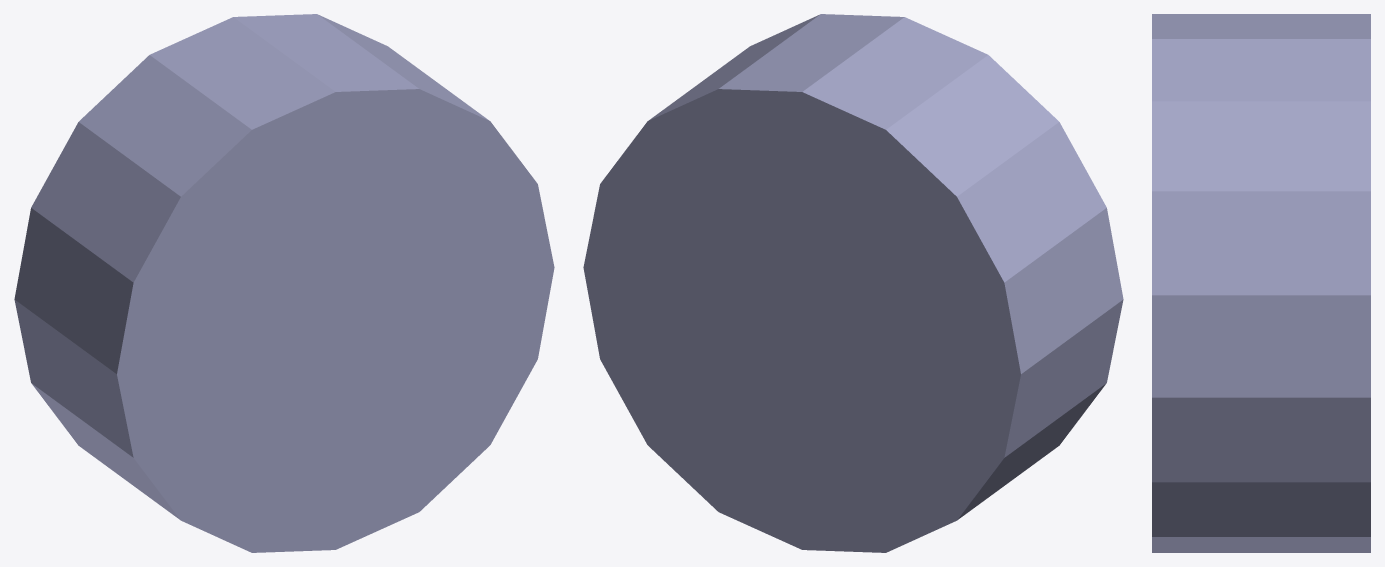
3 views of the same model, side by side, from view 1: azimuth 30°, elevation 25°; view 2: azimuth 150°, elevation 25°; view 3: azimuth 270°, elevation 25° (orthographic). The views are drawn at different scales.
Visible parts, largest first — view 1: Cylinder.001; view 2: Cylinder.001; view 3: Cylinder.001.
Boxes of the visible parts, x1,y1,x2,y2 form: Cylinder.001: (14,14,554,552); Cylinder.001: (583,14,1123,552); Cylinder.001: (1152,14,1370,552).
Size of the model in its own units: 144 by 144 by 58.43.
